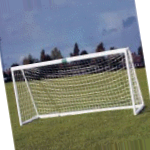goals: (9, 47, 145, 125)
